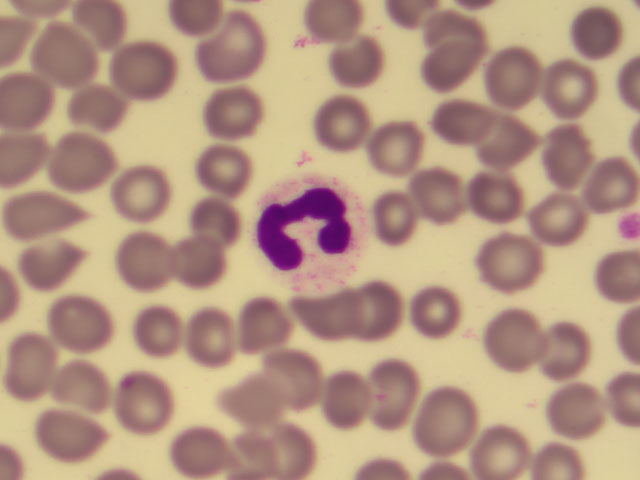Platelets: (619, 213, 640, 241)
RBC: (30, 20, 94, 87), (69, 73, 133, 140), (110, 40, 174, 107), (53, 126, 117, 193), (8, 180, 72, 247), (19, 224, 83, 291), (107, 159, 171, 226), (109, 224, 173, 291), (49, 292, 113, 359), (50, 349, 114, 416), (40, 395, 104, 462), (112, 370, 176, 437), (129, 298, 193, 365), (178, 303, 242, 370), (237, 287, 301, 354), (171, 228, 235, 295), (186, 189, 250, 256), (196, 136, 260, 203), (202, 74, 266, 141), (204, 5, 268, 72), (327, 30, 391, 97), (303, 89, 367, 156), (358, 107, 422, 174), (411, 162, 475, 229), (374, 189, 438, 256), (348, 278, 412, 345), (297, 286, 361, 353), (261, 345, 325, 412), (221, 368, 285, 435), (175, 410, 239, 477), (264, 413, 328, 480), (316, 364, 380, 431), (363, 351, 427, 418), (413, 383, 477, 450), (416, 278, 480, 345), (479, 228, 543, 295), (472, 166, 536, 233), (484, 113, 548, 180), (450, 94, 514, 161), (421, 40, 485, 107), (420, 2, 484, 69), (482, 37, 546, 104), (530, 47, 594, 114), (565, 7, 629, 74), (537, 120, 601, 187), (576, 147, 640, 214), (530, 181, 594, 248), (576, 248, 640, 315), (535, 314, 599, 381), (485, 310, 549, 377), (550, 378, 614, 445), (467, 413, 531, 480), (1, 70, 64, 137), (1, 333, 64, 400), (301, 1, 367, 49)
WBC: (250, 175, 367, 283)
